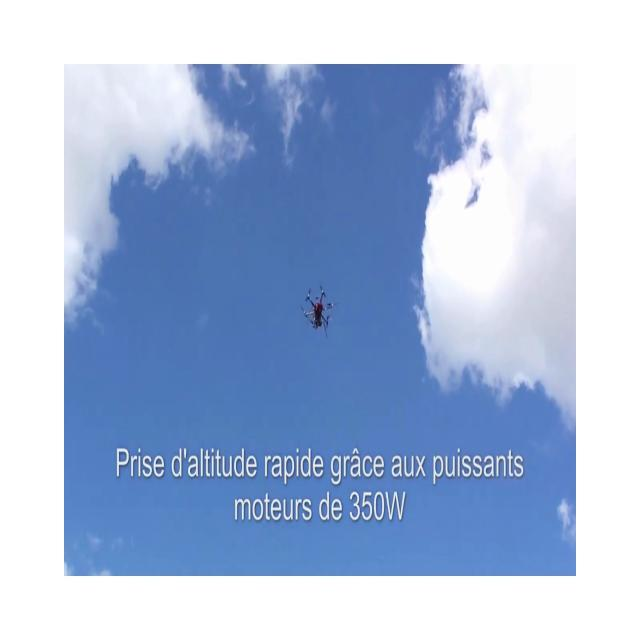drone: (300, 285, 336, 338)
